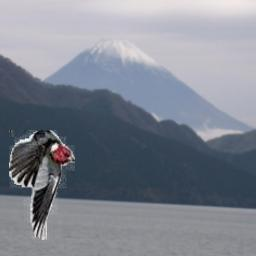Woodpecker: (9, 130, 75, 240)
